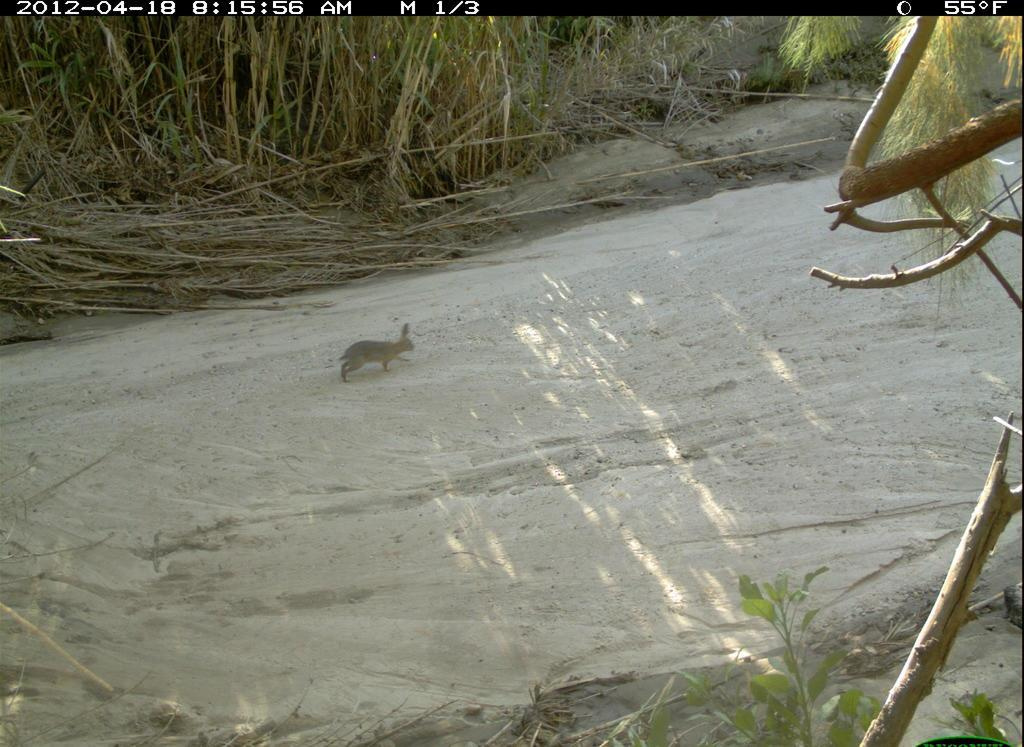rabbit: (322, 319, 429, 383)
